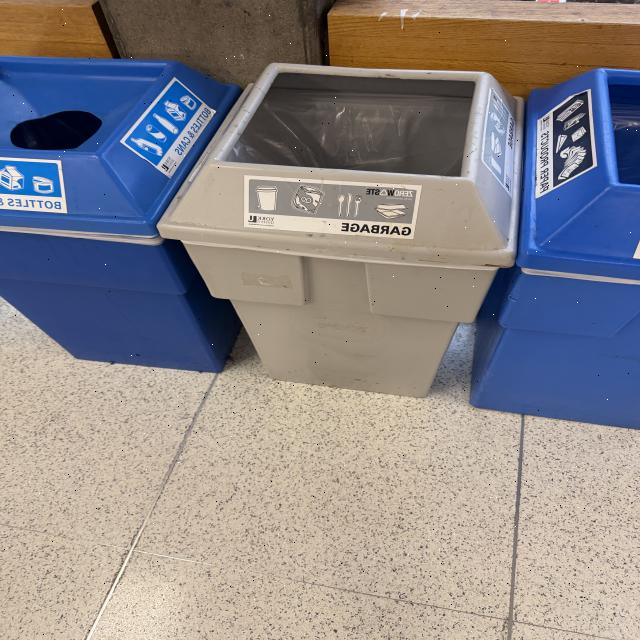Dustbin: (0, 53, 638, 434)
